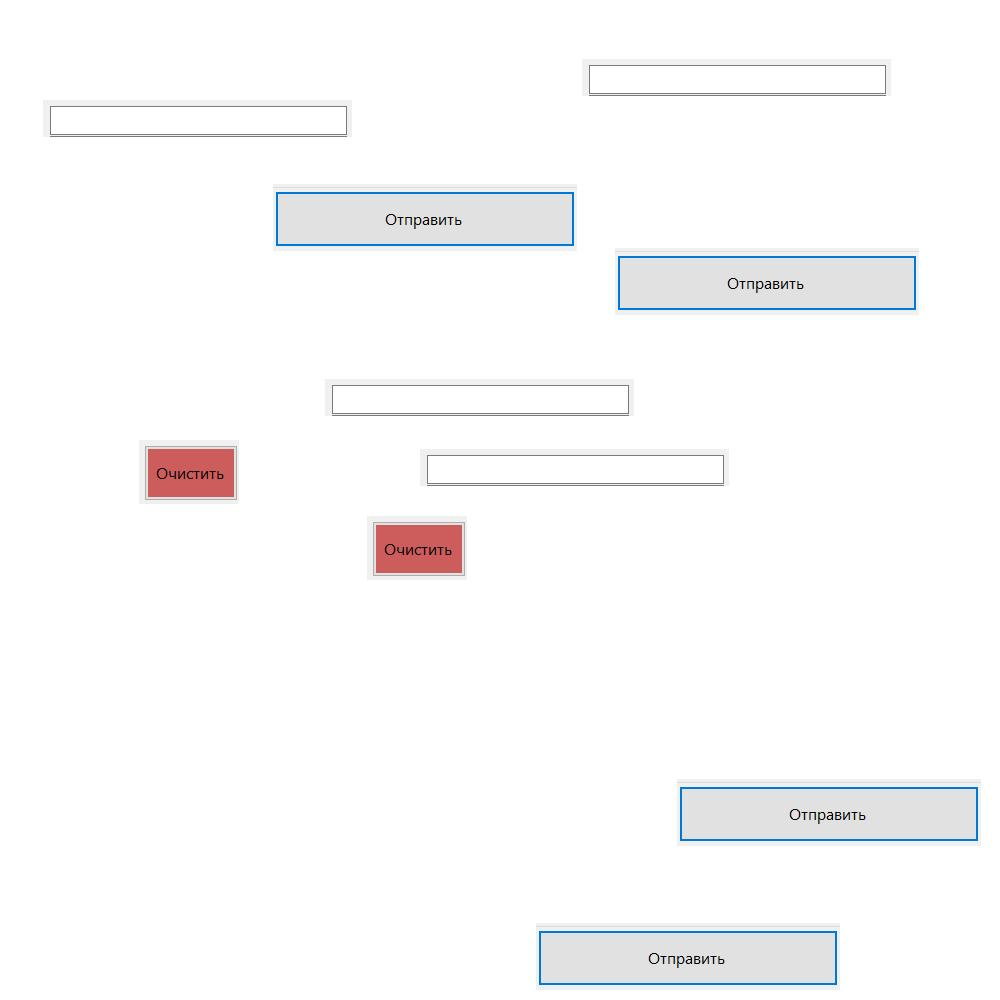Button: (677, 779, 981, 846), (615, 248, 919, 315), (536, 923, 840, 990), (273, 184, 577, 251), (139, 440, 239, 504), (367, 516, 467, 580)
EditText-: (325, 379, 634, 416), (43, 100, 352, 137), (582, 59, 891, 96), (420, 449, 729, 486)
